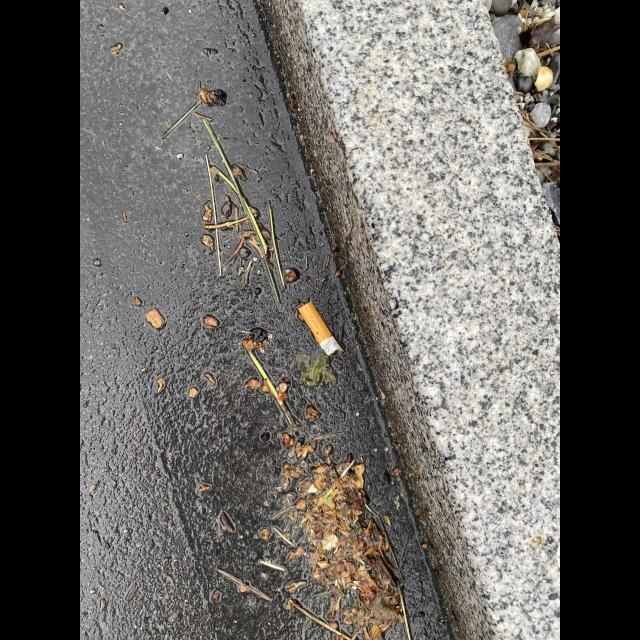cigarette: (297, 301, 345, 357)
